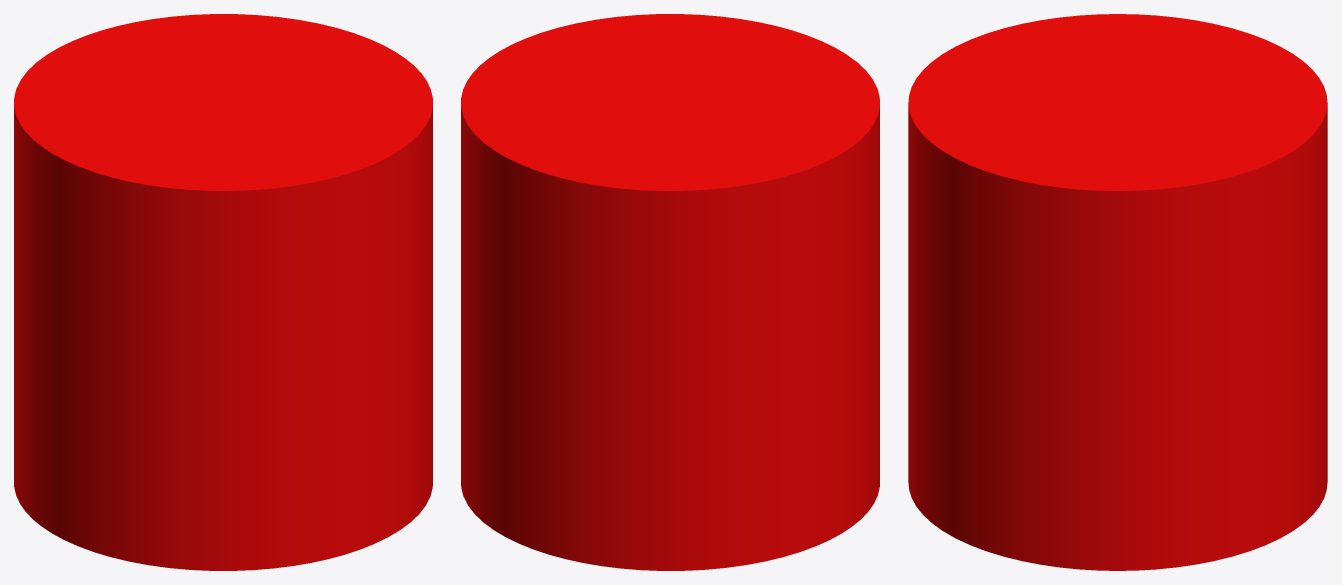
Rendered from asset.glb.
3 views of the same model, side by side, from view 1: azimuth 30°, elevation 25°; view 2: azimuth 150°, elevation 25°; view 3: azimuth 270°, elevation 25° (orthographic).
Parts seen in each view (by area): view 1: Layer 01; view 2: Layer 01; view 3: Layer 01.
Part boxes in pixels (left/top/right/bottom): Layer 01: left=14, top=14, right=432, bottom=570; Layer 01: left=461, top=14, right=879, bottom=570; Layer 01: left=908, top=14, right=1327, bottom=570.
Size of the model in its own units: 0.3 by 0.3 by 0.3.
